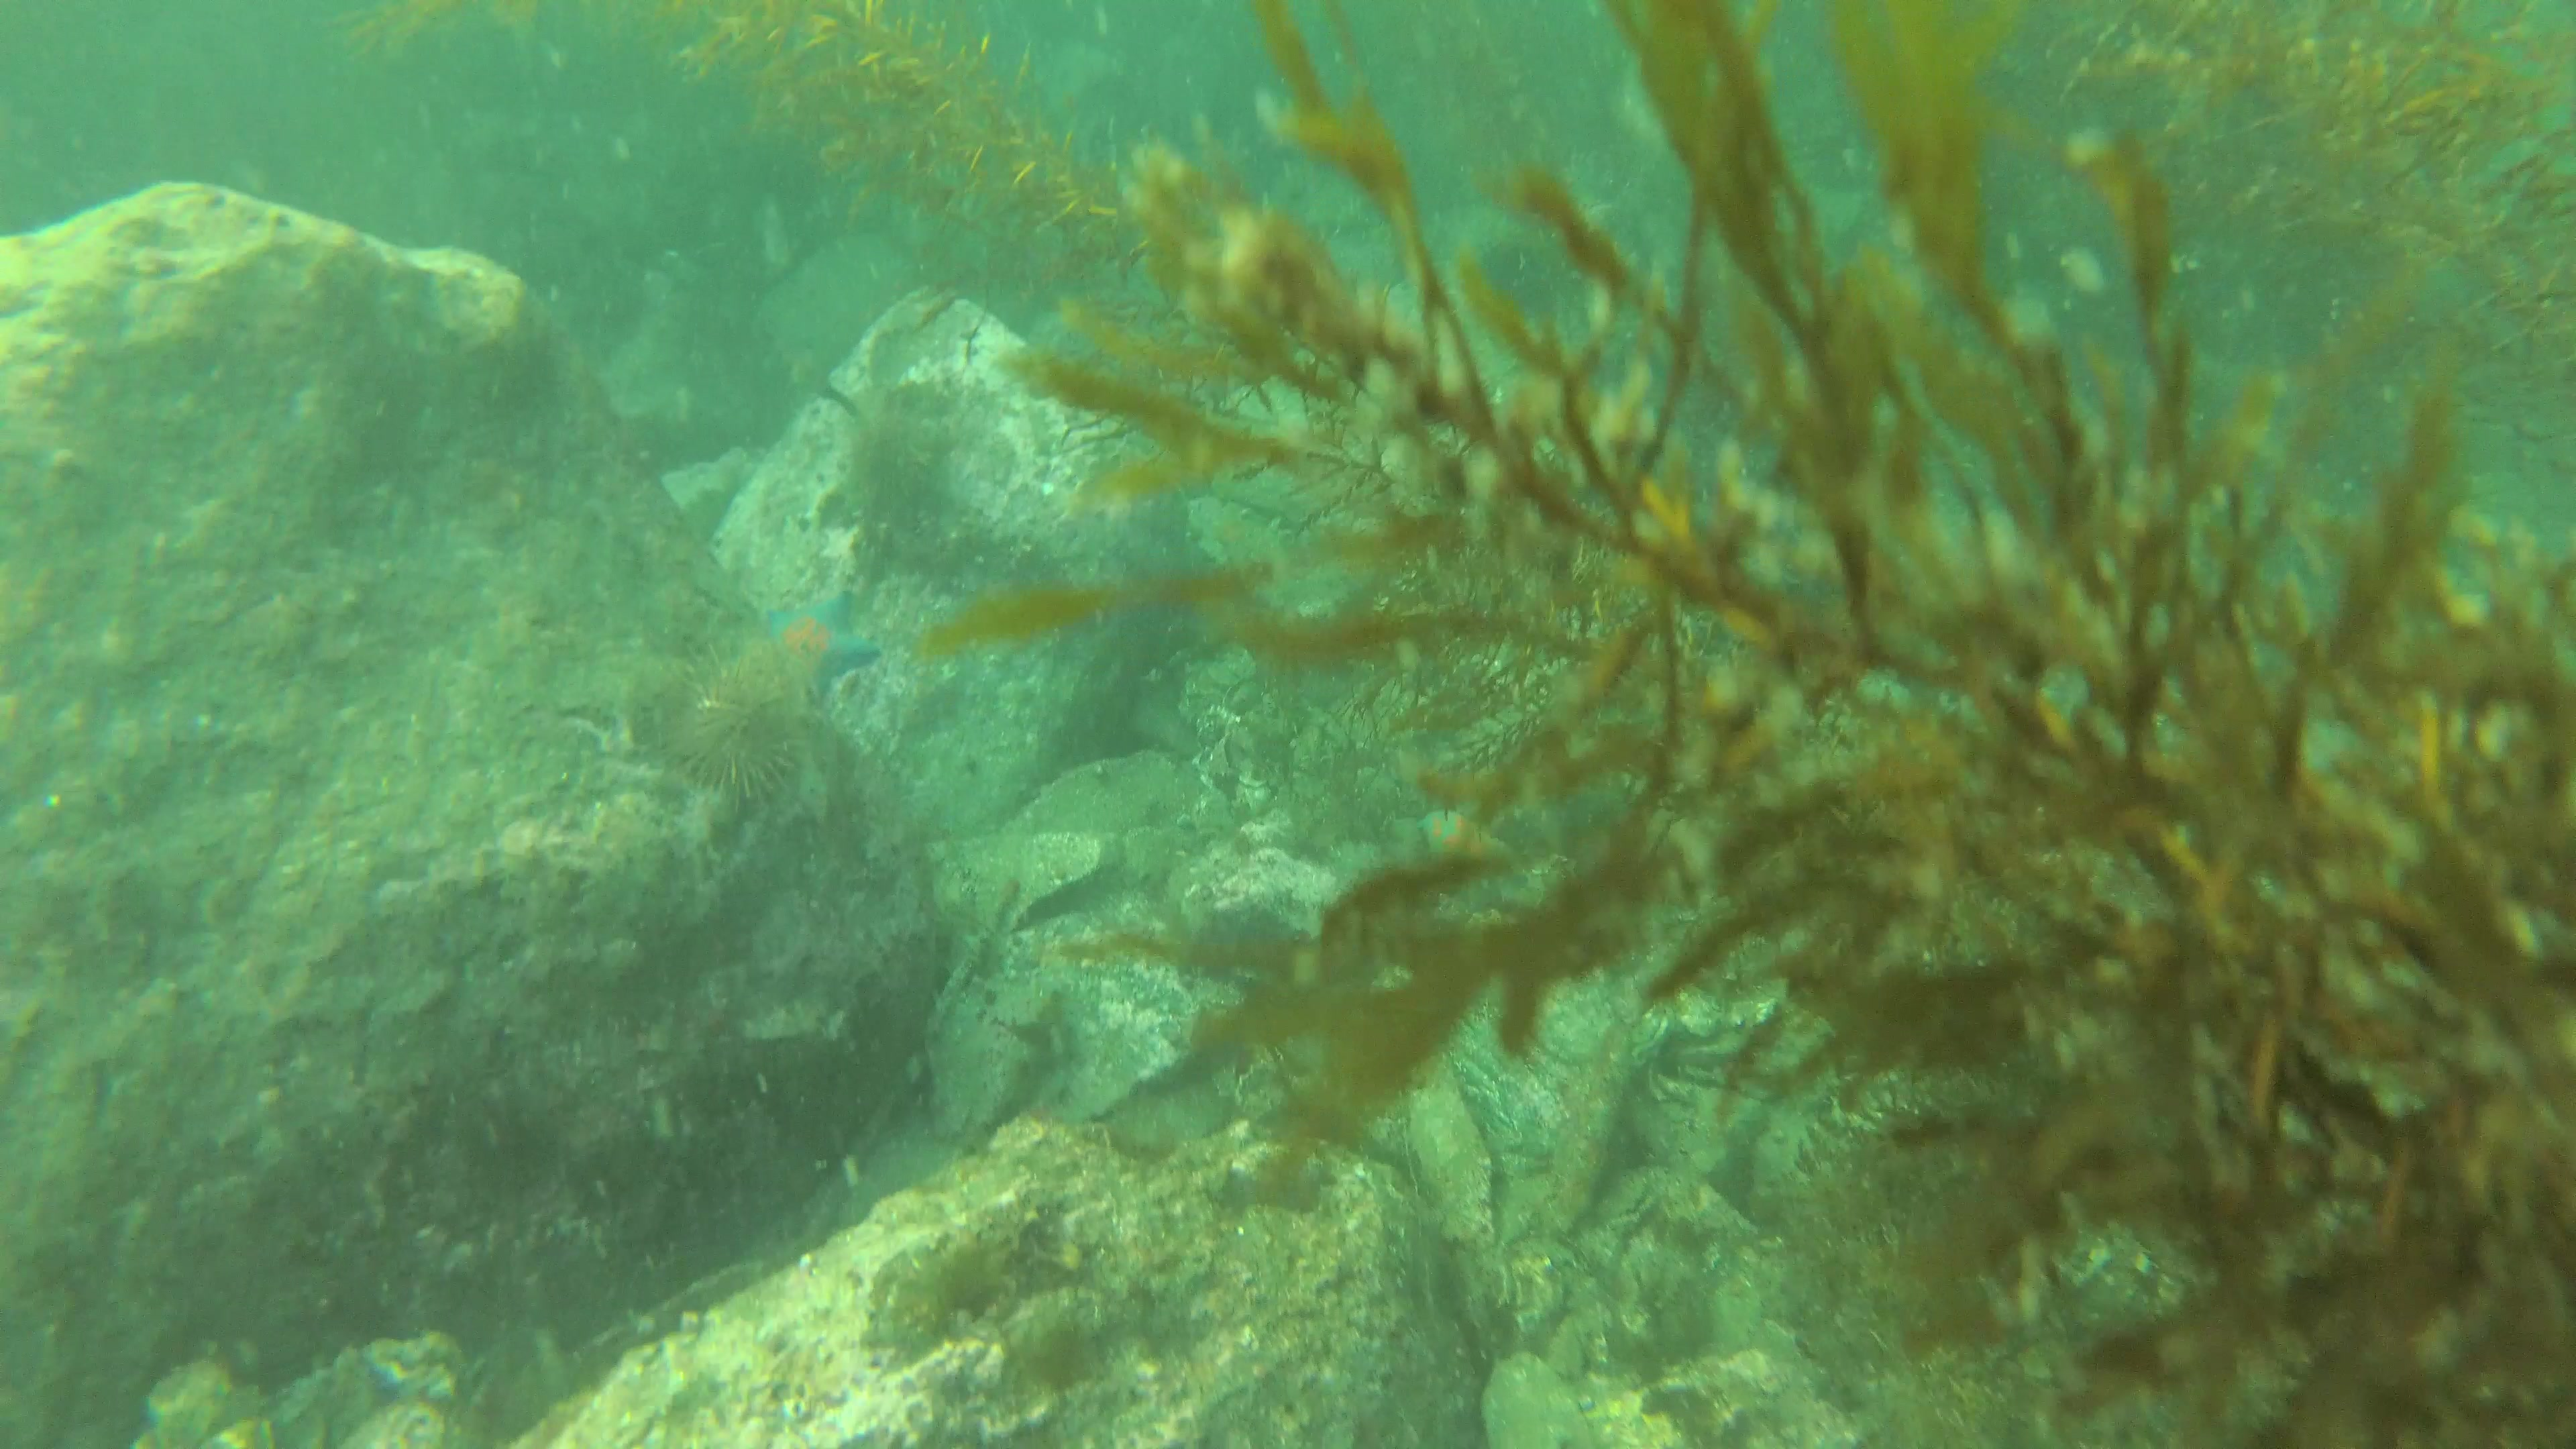echinus: (662, 646, 817, 801)
starfish: (741, 582, 879, 718)
